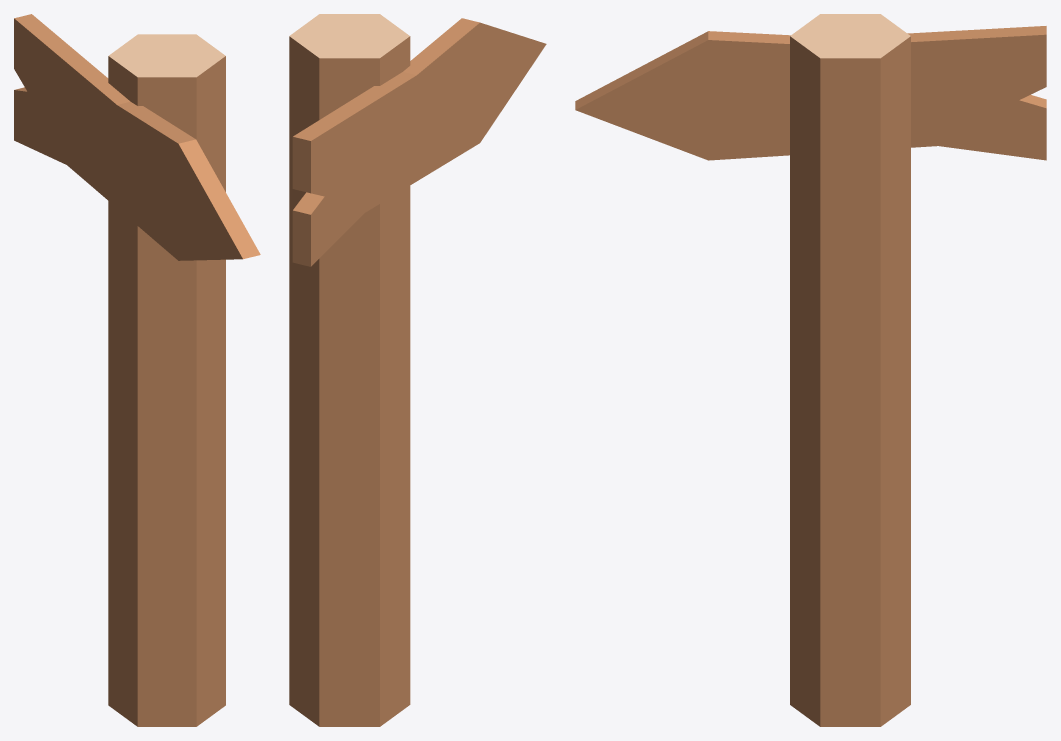
File: path_marker.fbx
3 views of the same model, side by side, from view 1: azimuth 30°, elevation 25°; view 2: azimuth 150°, elevation 25°; view 3: azimuth 270°, elevation 25° (orthographic). The views are drawn at different scales.
Visible parts, largest first — view 1: Post, Sign; view 2: Post, Sign; view 3: Post, Sign.
Part boxes in pixels (x1,y1,x2,y2): Post: (108,34,225,726); Sign: (14,14,260,260); Post: (289,14,410,726); Sign: (292,18,546,266); Post: (790,14,910,726); Sign: (575,26,1046,160).
Size of the model in its own units: 20 by 122 by 77.98.
